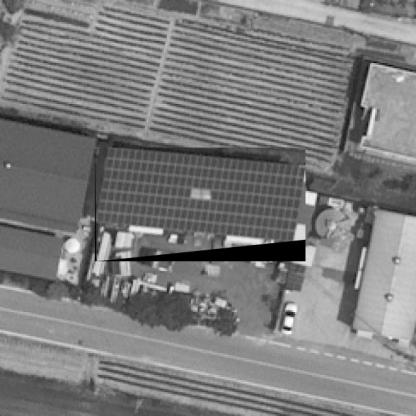solar-pv-panel: (96, 148, 306, 246)
